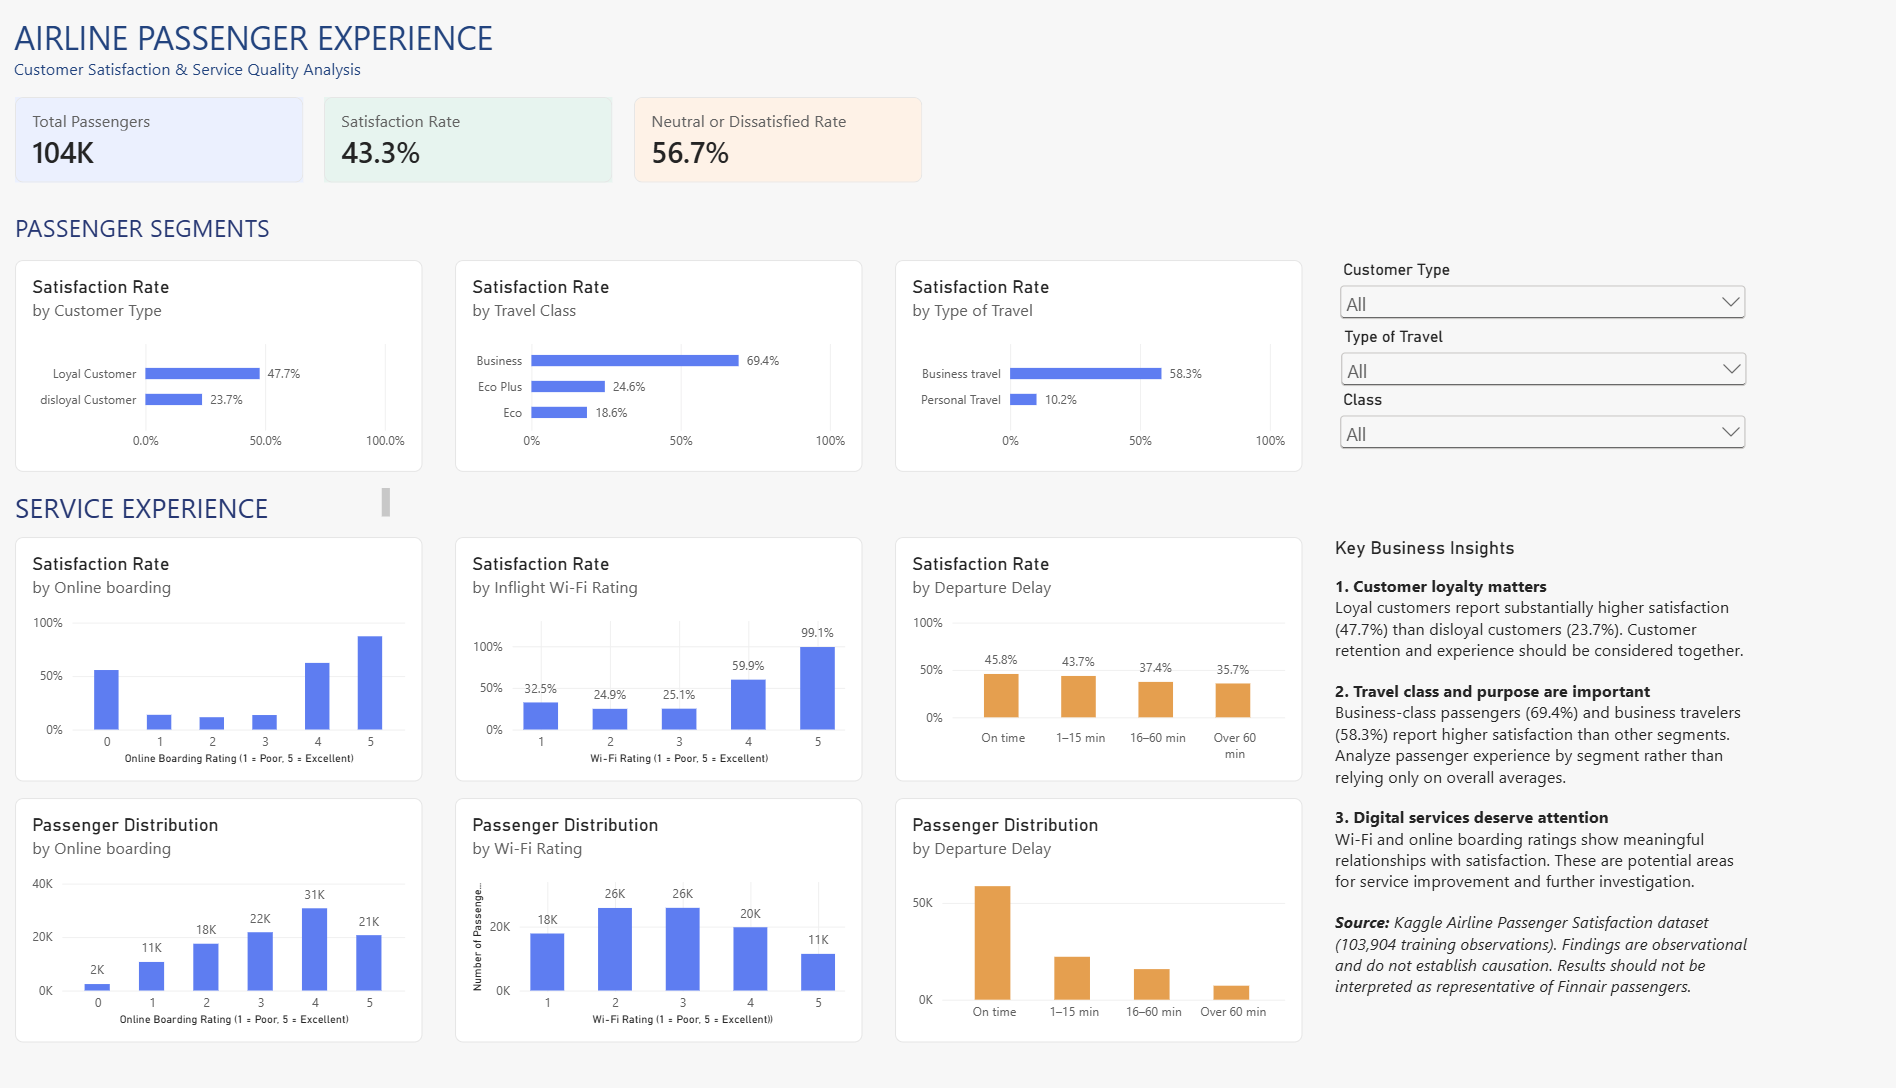

This screenshot's page, from the dashboard's own definition file:
{"tool":"powerbi","page":{"name":"Page 1","canvas":[1920,1080],"ordinal":0},"visuals":[{"type":"cardVisual","fields":{"Data":["train.Satisfaction Rate"]},"box":[336,96,283.3,84.4],"z":0},{"type":"clusteredBarChart","fields":{"Category":["train.Customer Type"],"Y":["train.Satisfaction Rate"]},"box":[32,256,400,208],"z":1000},{"type":"clusteredBarChart","title":"Satisfaction Rate ","fields":{"Category":["train.Class"],"Y":["train.Satisfaction Rate"]},"box":[464,256,400,208],"z":2000},{"type":"clusteredBarChart","fields":{"Category":["train.Type of Travel"],"Y":["train.Satisfaction Rate"]},"box":[896,256,400,208],"z":3000},{"type":"clusteredColumnChart","title":"Passenger Distribution ","fields":{"Category":["train.Inflight wifi service"],"Y":["train.Total Passengers"]},"box":[464,784,400,240],"z":4000},{"type":"clusteredColumnChart","title":"Satisfaction Rate","fields":{"Category":["train.Inflight wifi service"],"Y":["train.Satisfaction Rate"]},"box":[464,528,400,240],"z":5000},{"type":"clusteredColumnChart","fields":{"Category":["train.Online boarding"],"Y":["train.Satisfaction Rate"]},"box":[32,528,400,240],"z":6000},{"type":"clusteredColumnChart","title":"Passenger Distribution","fields":{"Category":["train.Online boarding"],"Y":["train.Total Passengers"]},"box":[32,784,400,240],"z":7000},{"type":"clusteredColumnChart","title":"Passenger Distribution","fields":{"Category":["train.Departure Delay Category"],"Y":["train.Total Passengers"]},"box":[896,784,400,240],"z":8000},{"type":"clusteredColumnChart","title":"Satisfaction Rate ","fields":{"Category":["train.Departure Delay Category"],"Y":["train.Satisfaction Rate"]},"box":[896,528,400,240],"z":9000},{"type":"slicer","fields":{"Values":["train.Class"]},"box":[1328,384,408.3,77.5],"z":10000},{"type":"slicer","fields":{"Values":["train.Customer Type"]},"box":[1328,256,408.3,70.7],"z":11000},{"type":"slicer","fields":{"Values":["train.Type of Travel"]},"box":[1328.8,322,408.3,66.7],"z":12000},{"type":"textbox","title":"Key Business Insights","box":[1328,528,407.4,491.8],"z":13000},{"type":"textbox","box":[31.1,14.4,497.8,71.1],"z":14000},{"type":"cardVisual","fields":{"Data":["train.Total Passengers"]},"box":[32,96,283.3,84.4],"z":15000},{"type":"cardVisual","fields":{"Data":["train.Neutral or Dissatisfied Rate"]},"box":[640,96,283.3,84.4],"z":16000},{"type":"textbox","box":[32,208,368,32],"z":17000},{"type":"textbox","box":[32,480,368,32],"z":18000}]}

Visuals, with their boxes in screenshot pixels (x1, y1, x2, y2), scaled from the page's 1920x1080 canvas onto the 1896x1088 screenshot:
cardVisual - train.Satisfaction Rate: 332,97,612,182
clusteredBarChart - train.Customer Type x train.Satisfaction Rate: 32,258,427,467
"Satisfaction Rate " clusteredBarChart: 458,258,853,467
clusteredBarChart - train.Type of Travel x train.Satisfaction Rate: 885,258,1280,467
"Passenger Distribution " clusteredColumnChart: 458,790,853,1032
"Satisfaction Rate" clusteredColumnChart: 458,532,853,774
clusteredColumnChart - train.Online boarding x train.Satisfaction Rate: 32,532,427,774
"Passenger Distribution" clusteredColumnChart: 32,790,427,1032
"Passenger Distribution" clusteredColumnChart: 885,790,1280,1032
"Satisfaction Rate " clusteredColumnChart: 885,532,1280,774
slicer - train.Class: 1311,387,1715,465
slicer - train.Customer Type: 1311,258,1715,329
slicer - train.Type of Travel: 1312,324,1715,392
"Key Business Insights" textbox: 1311,532,1714,1027
textbox: 31,15,522,86
cardVisual - train.Total Passengers: 32,97,311,182
cardVisual - train.Neutral or Dissatisfied Rate: 632,97,912,182
textbox: 32,210,395,242
textbox: 32,484,395,516
